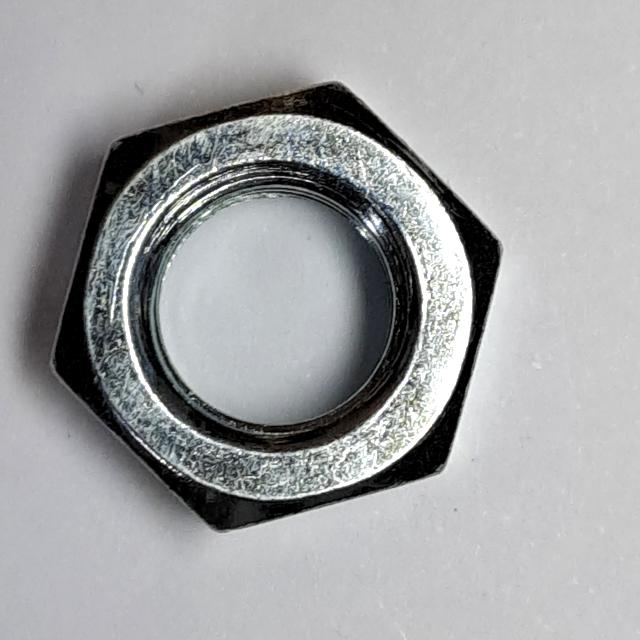Excellent: (40, 70, 511, 551)
